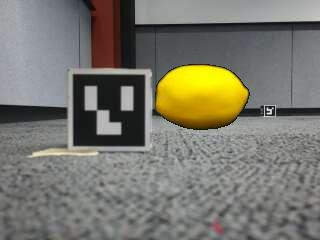lemon: (158, 66, 252, 130)
